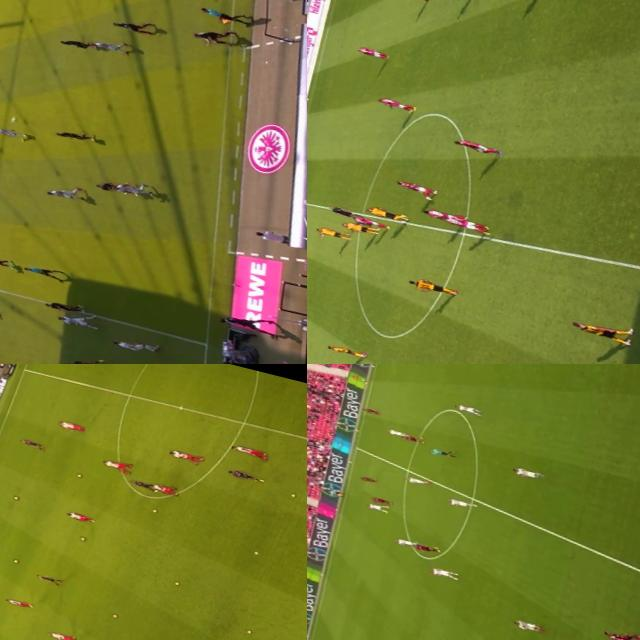ball: (3, 114, 20, 125), (396, 217, 411, 226), (10, 494, 20, 500), (287, 491, 296, 497), (242, 628, 251, 634), (108, 612, 117, 618), (77, 535, 86, 541), (171, 580, 179, 586), (74, 472, 82, 478), (250, 550, 258, 554), (10, 559, 18, 563), (149, 508, 157, 512)
player: (568, 312, 634, 343), (187, 21, 236, 48), (53, 307, 102, 332), (404, 274, 458, 296), (108, 335, 157, 358), (108, 178, 156, 201), (391, 177, 438, 200), (42, 180, 86, 204), (86, 34, 132, 56), (450, 137, 498, 158), (51, 125, 98, 146), (440, 213, 487, 234), (41, 296, 85, 318), (89, 176, 133, 198), (108, 16, 151, 36), (420, 206, 464, 225), (507, 462, 546, 482), (363, 205, 405, 222), (376, 96, 413, 114), (60, 350, 107, 364), (599, 625, 640, 640), (510, 616, 544, 634), (324, 344, 364, 359), (313, 226, 348, 243), (56, 35, 93, 51), (339, 221, 376, 237), (350, 214, 387, 230), (224, 468, 264, 482), (446, 495, 478, 512), (0, 123, 30, 141), (230, 443, 266, 458), (411, 540, 443, 556), (167, 448, 203, 462), (101, 456, 131, 472), (354, 46, 386, 60), (128, 478, 160, 492), (452, 402, 484, 416), (403, 473, 432, 488), (368, 494, 397, 508), (64, 511, 95, 524), (428, 566, 459, 579), (17, 437, 46, 450), (34, 572, 62, 585), (392, 535, 418, 549), (366, 500, 392, 514), (55, 420, 85, 432), (47, 629, 78, 640), (0, 251, 17, 271), (146, 482, 174, 494), (384, 426, 412, 438), (4, 598, 34, 608), (400, 431, 422, 444), (356, 472, 377, 485), (358, 406, 382, 416), (0, 120, 7, 136)
